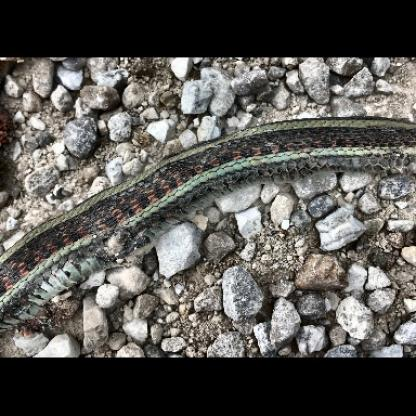Snake: (4, 117, 416, 334)
